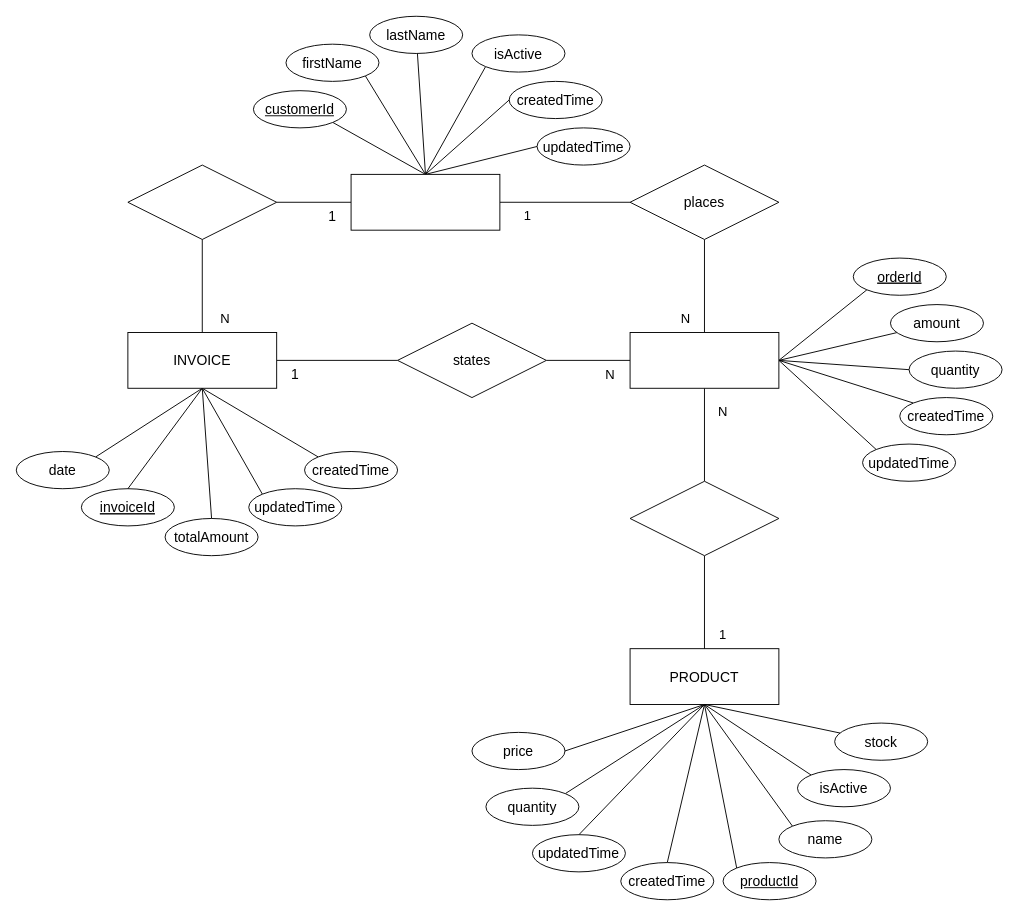
This 1018x916 diagram has some shape labels left out. The centre of each missing label's shape, as x and y in pixels:
"CUSTOMER" belongs at [425,201].
"includes" belongs at [704,518].
"ORDERLINE" belongs at [704,360].
"receives" belongs at [202,201].
